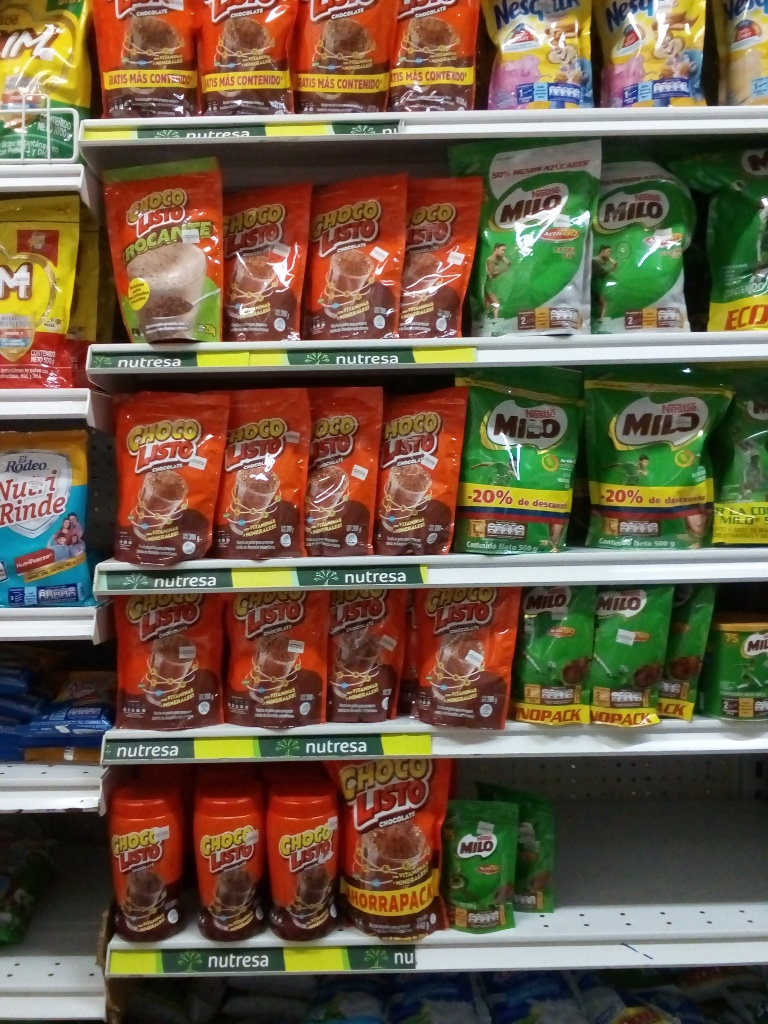COL0170102DYP25000: (98, 154, 231, 342)
COL0170103DYP44000: (331, 757, 449, 936)
COL0170103TRR30000: (267, 781, 337, 944)
COL0170203DYP10000: (486, 781, 560, 911)
COL0170203DYP25000: (663, 579, 720, 718)
COL0170203DYP50000: (713, 364, 766, 545)
COL0170203LAT40000: (705, 621, 768, 719)
COL0170205DYP50000: (451, 136, 613, 339)
COL0170305DYP20000: (593, 3, 703, 107)
COL0170306DYP20000: (707, 0, 766, 105)
